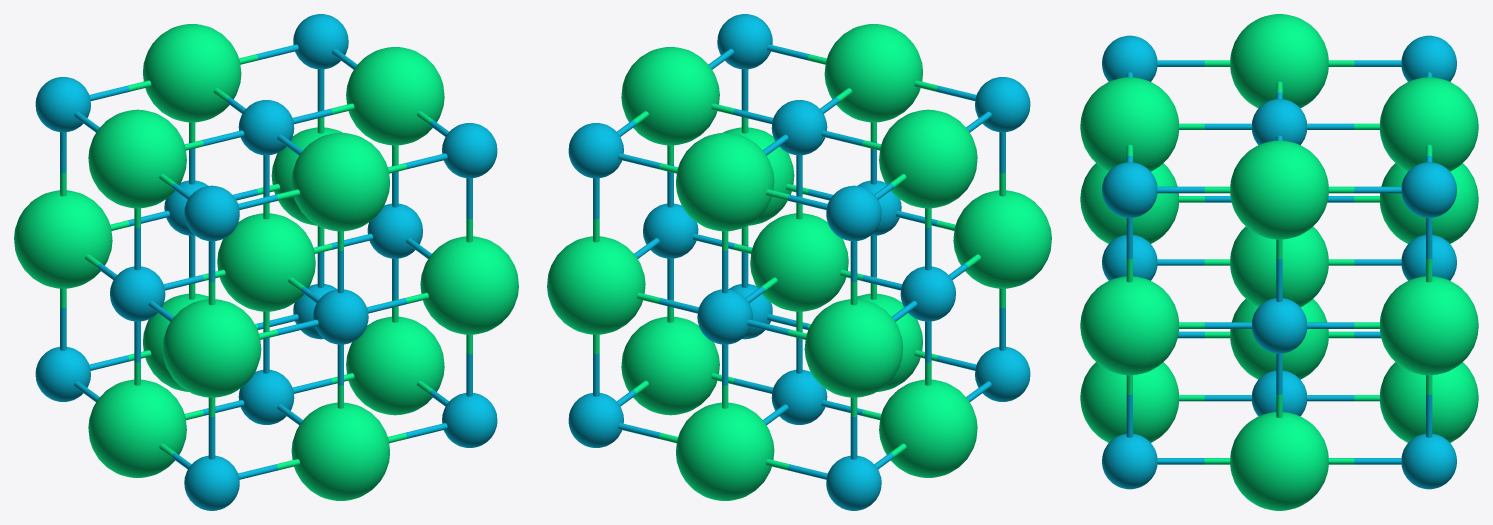
Rendered from halite.glb.
The picture shows the model from 3 angles, left to right: view 1: azimuth 30°, elevation 25°; view 2: azimuth 150°, elevation 25°; view 3: azimuth 270°, elevation 25°; orthographic projection.
Visible parts, largest first — view 1: Cl03, Cl06, Cl02, Cl16, Cl07, Cl04, Cl20, Cl10, Cl12, Cl17, Cl26, Na05 (+15 smaller); view 2: Cl10, Cl12, Cl09, Cl23, Cl07, Cl04, Cl20, Cl03, Cl06, Cl17, Cl26, Na11 (+15 smaller); view 3: Cl20, Cl17, Cl16, Cl23, Cl07, Cl06, Cl12, Cl26, Cl02, Cl09, Cl03, Cl10 (+29 smaller).
Boxes of the visible parts, x1=… form: Cl03: x1=162, y1=299, x2=261, y2=397; Cl06: x1=291, y1=132, x2=389, y2=231; Cl02: x1=291, y1=402, x2=389, y2=500; Cl16: x1=420, y1=236, x2=518, y2=334; Cl07: x1=88, y1=109, x2=186, y2=208; Cl04: x1=88, y1=379, x2=186, y2=477; Cl20: x1=346, y1=47, x2=444, y2=145; Cl10: x1=14, y1=190, x2=112, y2=288; Cl12: x1=143, y1=24, x2=241, y2=122; Cl17: x1=346, y1=316, x2=444, y2=415; Cl26: x1=217, y1=213, x2=315, y2=311; Na05: x1=184, y1=185, x2=239, y2=241; Cl10: x1=804, y1=299, x2=903, y2=397; Cl12: x1=676, y1=132, x2=774, y2=231; Cl09: x1=676, y1=402, x2=774, y2=500; Cl23: x1=547, y1=236, x2=645, y2=334; Cl07: x1=879, y1=109, x2=977, y2=208; Cl04: x1=879, y1=379, x2=977, y2=477; Cl20: x1=621, y1=47, x2=719, y2=145; Cl03: x1=953, y1=190, x2=1051, y2=288; Cl06: x1=824, y1=24, x2=922, y2=122; Cl17: x1=621, y1=316, x2=719, y2=415; Cl26: x1=750, y1=213, x2=848, y2=311; Na11: x1=826, y1=185, x2=881, y2=241; Cl20: x1=1230, y1=140, x2=1328, y2=239; Cl17: x1=1230, y1=412, x2=1328, y2=510; Cl16: x1=1080, y1=276, x2=1178, y2=375; Cl23: x1=1380, y1=276, x2=1478, y2=375; Cl07: x1=1230, y1=14, x2=1328, y2=108; Cl06: x1=1080, y1=77, x2=1179, y2=171; Cl12: x1=1379, y1=77, x2=1478, y2=171; Cl26: x1=1230, y1=226, x2=1328, y2=307; Cl02: x1=1080, y1=362, x2=1178, y2=442; Cl09: x1=1380, y1=362, x2=1478, y2=442; Cl03: x1=1080, y1=163, x2=1179, y2=243; Cl10: x1=1379, y1=163, x2=1478, y2=243.
Bounding box in the file's own units: 7.26 × 7.26 × 7.26.
